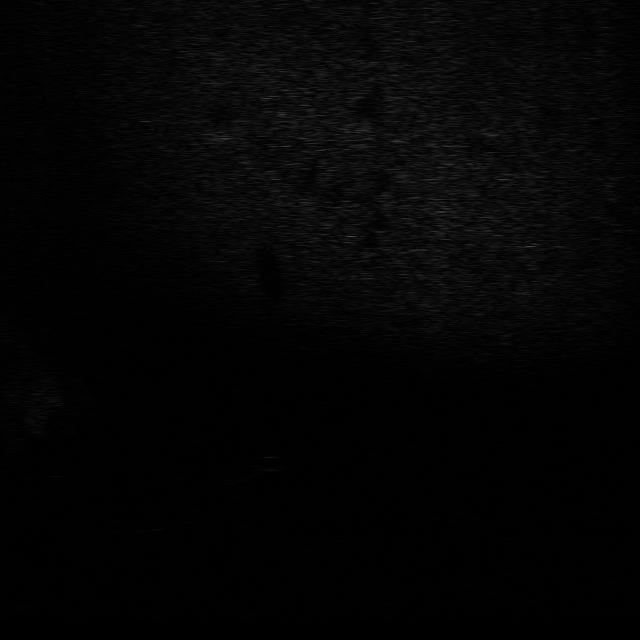ball: (242, 452, 290, 474)
square cage: (144, 497, 225, 527)
